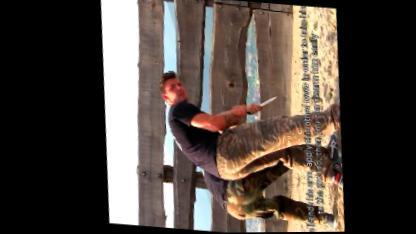knife: (240, 92, 278, 118)
